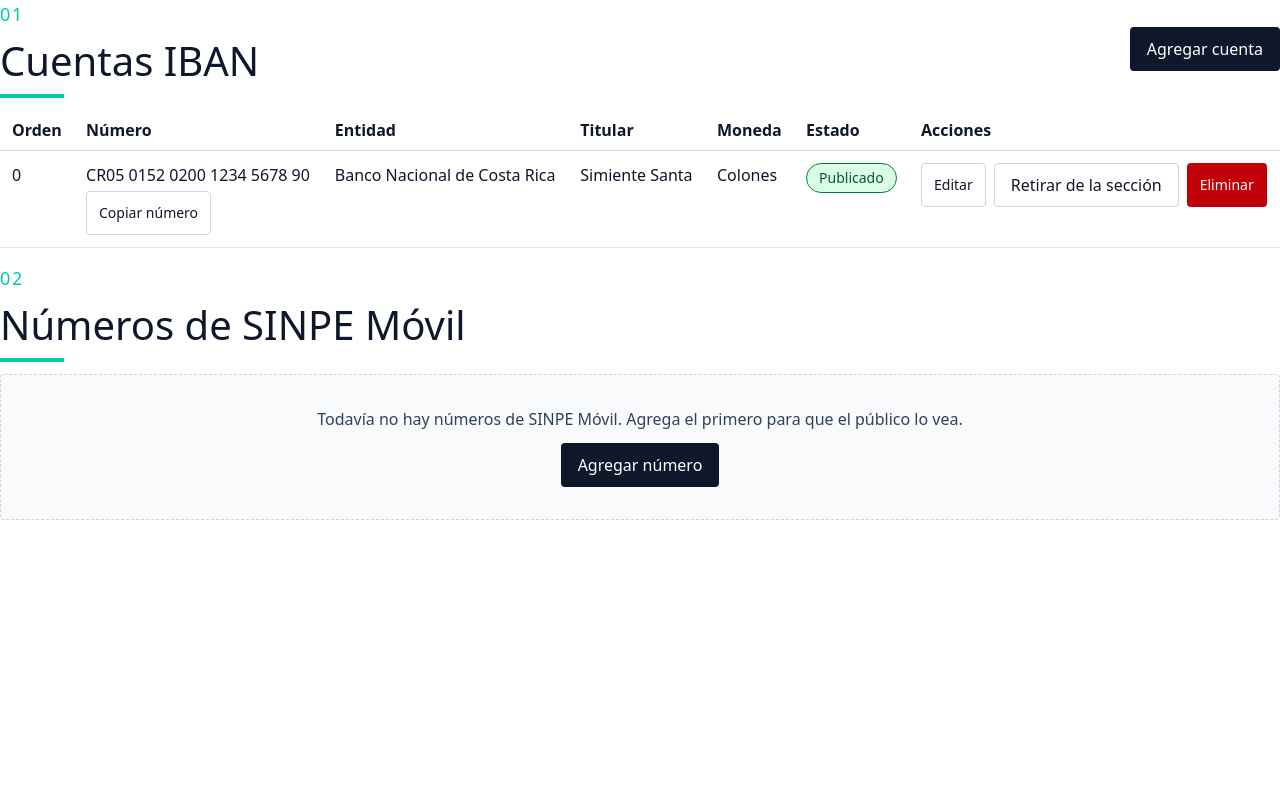
DonacionesListsByType (ux.md §4.3/§5.b, Q1/Q2) › retira con confirmación suave y su aviso (US3)
The width and height of the screenshot is (1280, 800).
Click the button "Retirar de la sección" at [1086, 185], box [994, 163, 1179, 207]
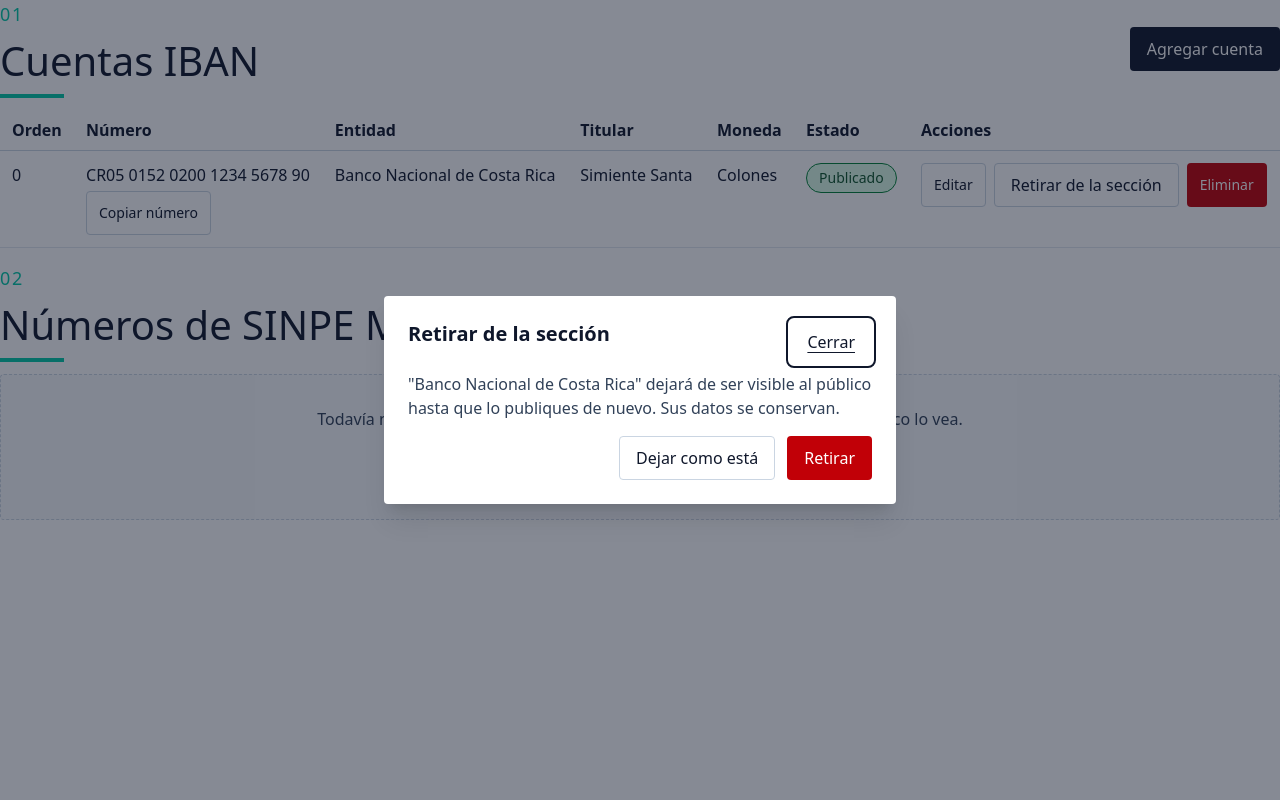
Now the dialog shows "\"Banco Nacional de Costa Rica\" dejará de ser visible al público", box [408, 373, 871, 419]
Click the button "Retirar" at [830, 458], box [787, 436, 872, 480]
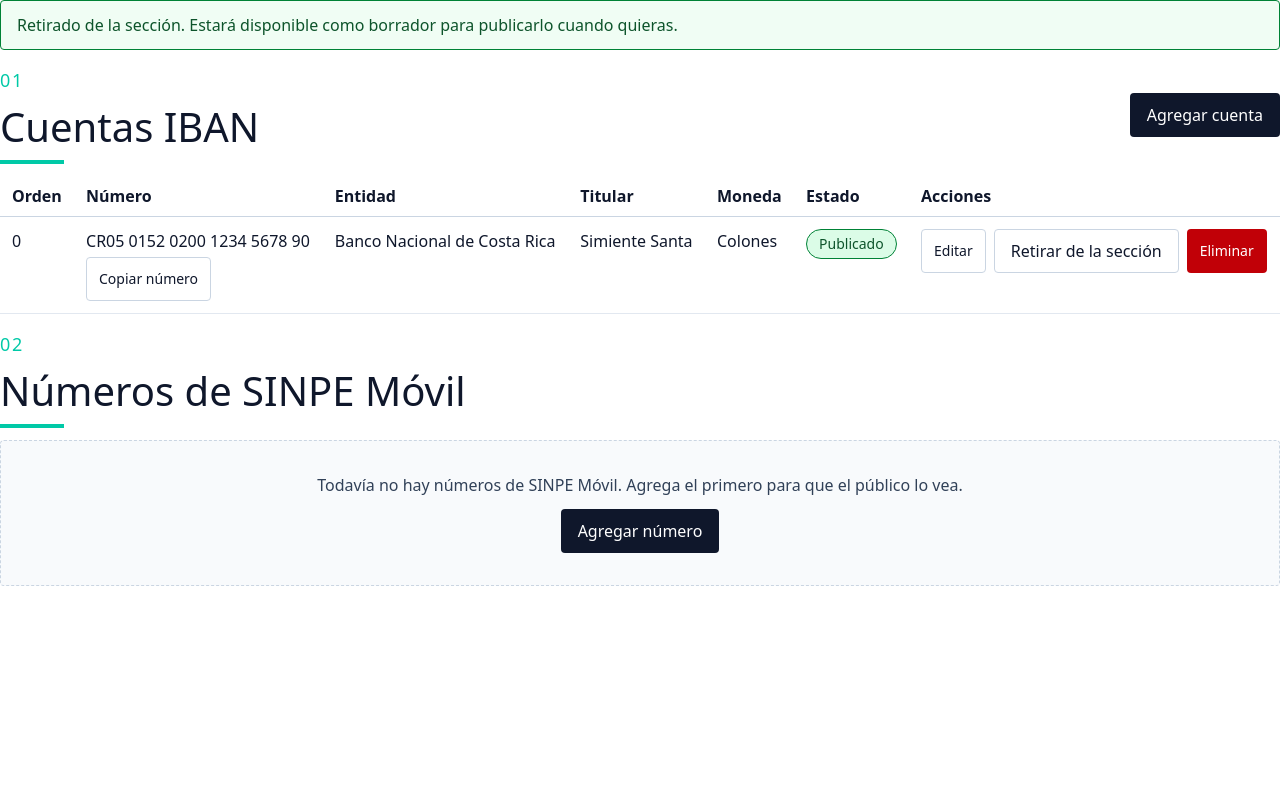
Now the text "Retirado de la sección." is shown, box [17, 14, 678, 36]
